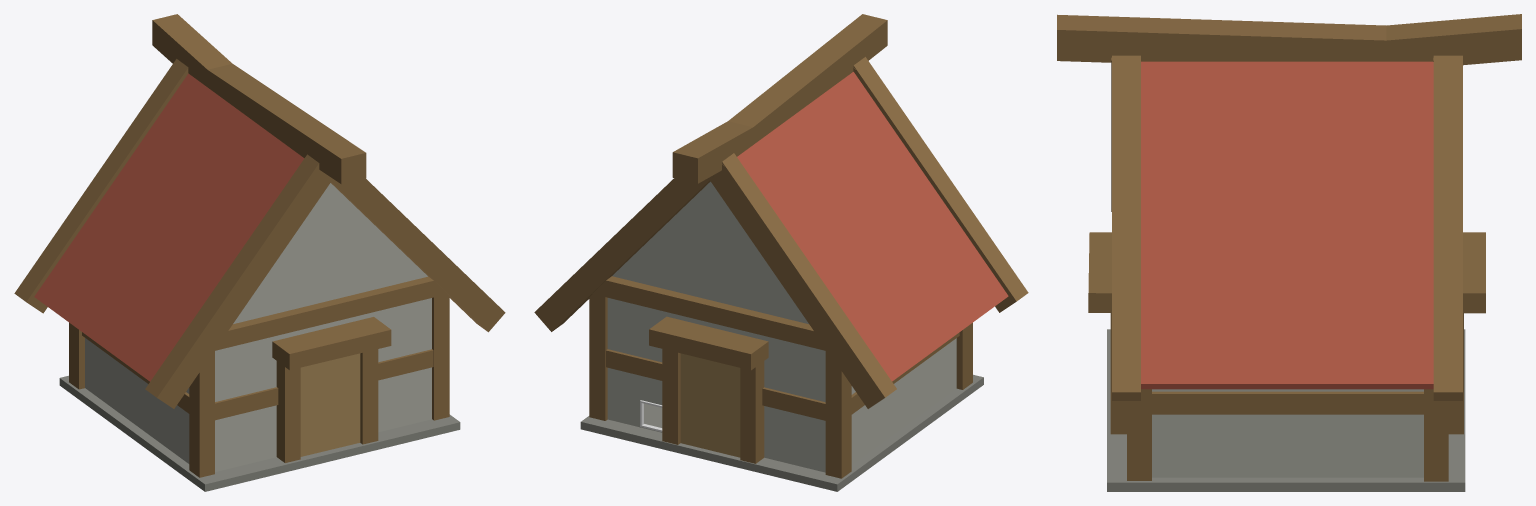
The model's file is House with Cat Door.fbx.
3 renders of one model, left to right at view 1: azimuth 30°, elevation 25°; view 2: azimuth 150°, elevation 25°; view 3: azimuth 270°, elevation 25°, orthographic. The views are drawn at different scales.
Visible parts, largest first — view 1: Cube.025, Cube.027, Cube.021, Cube.022, Cube.031, Cube.020, Cube.023, Cube.004, Cube.029, Cube.018, Cube.005, Cube.009 (+6 smaller); view 2: Cube.025, Cube.034, Cube.023, Cube.022, Cube.031, Cube.024, Cube.021, Cube.003, Cube.029, Cube.019, Cube.002, Cube.008 (+6 smaller); view 3: Cube.026, Cube.022, Cube.030, Cube.024, Cube.020, Cube.031, Cube.014, Cube.011, Cube.010, Cube.005, Cube.002, Cube.006 (+1 smaller).
Boxes of the visible parts, <box> form: Cube.025: <box>34,73,304,381</box>; Cube.027: <box>215,183,431,471</box>; Cube.021: <box>145,154,332,408</box>; Cube.022: <box>152,14,366,184</box>; Cube.031: <box>59,375,460,491</box>; Cube.020: <box>330,178,505,332</box>; Cube.023: <box>14,59,188,313</box>; Cube.004: <box>300,353,360,456</box>; Cube.029: <box>85,338,189,463</box>; Cube.018: <box>214,276,447,350</box>; Cube.005: <box>272,317,391,370</box>; Cube.009: <box>189,351,214,477</box>; Cube.025: <box>737,72,1008,381</box>; Cube.034: <box>607,181,825,472</box>; Cube.023: <box>710,153,896,408</box>; Cube.022: <box>672,14,887,183</box>; Cube.031: <box>580,374,983,491</box>; Cube.024: <box>534,163,724,331</box>; Cube.021: <box>853,57,1028,312</box>; Cube.003: <box>680,353,740,457</box>; Cube.029: <box>851,338,956,464</box>; Cube.019: <box>592,276,827,351</box>; Cube.002: <box>649,316,768,370</box>; Cube.008: <box>825,351,851,478</box>; Cube.026: <box>1141,61,1433,389</box>; Cube.022: <box>1057,14,1521,65</box>; Cube.030: <box>1152,389,1423,477</box>; Cube.024: <box>1433,55,1462,400</box>; Cube.020: <box>1112,55,1140,400</box>; Cube.031: <box>1107,329,1465,491</box>; Cube.014: <box>1152,391,1423,414</box>; Cube.011: <box>1424,389,1448,481</box>; Cube.010: <box>1127,389,1151,480</box>; Cube.005: <box>1088,232,1111,312</box>; Cube.002: <box>1463,232,1485,313</box>; Cube.006: <box>1110,313,1126,434</box>.
Bounding box in the file's own units: 392 × 344 × 368.
